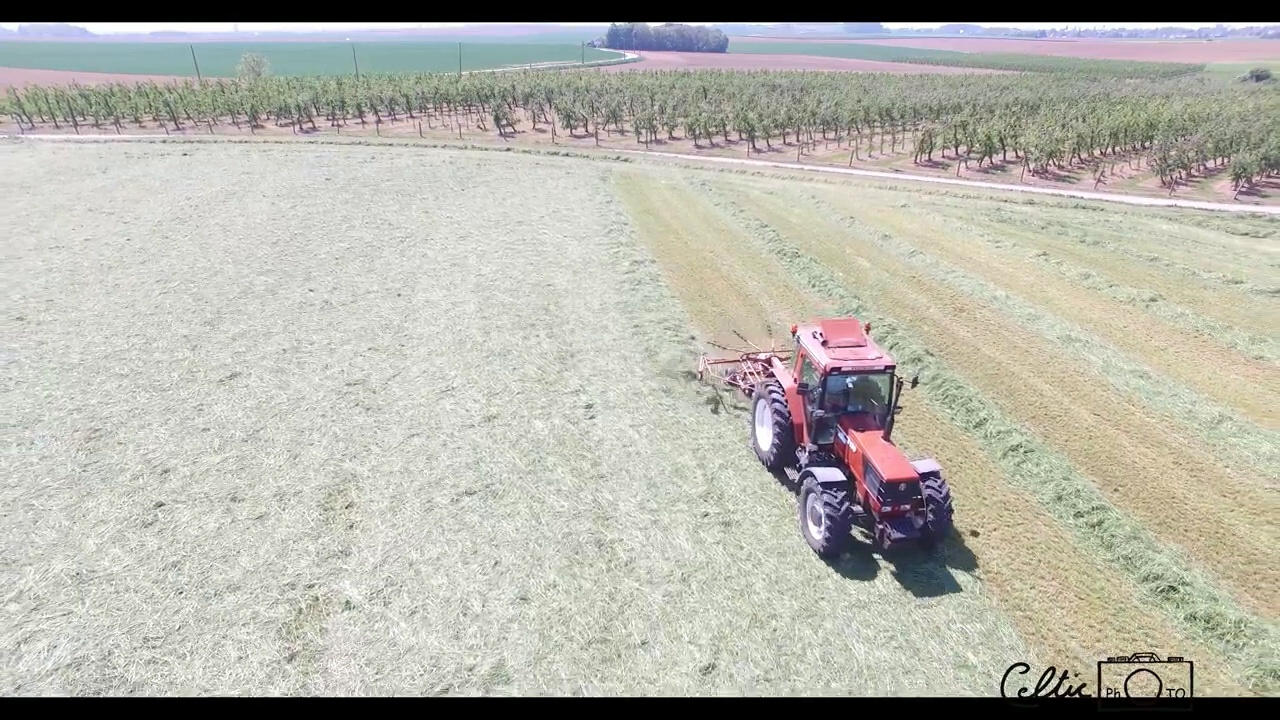traktor: (734, 310, 979, 555)
